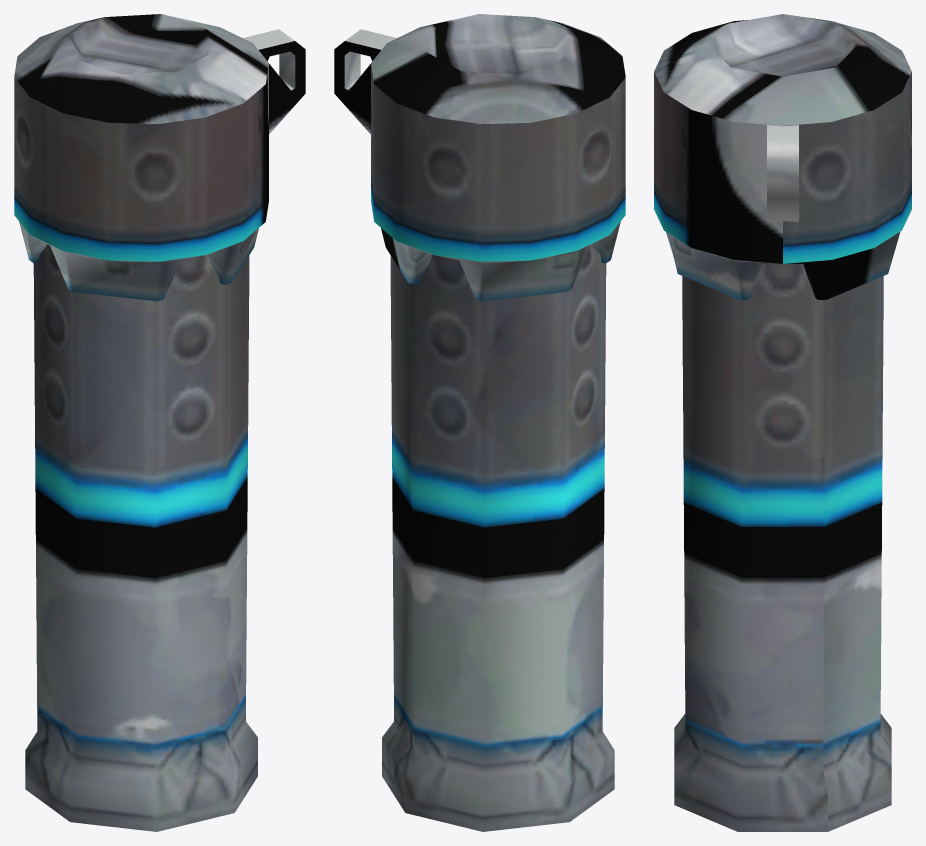
File: mccree_stun.obj
The picture shows the model from 3 angles, left to right: view 1: azimuth 30°, elevation 25°; view 2: azimuth 150°, elevation 25°; view 3: azimuth 270°, elevation 25°; orthographic projection.
Parts seen in each view (by area): view 1: Submesh_0.1.967E34207D99D1DA; view 2: Submesh_0.1.967E34207D99D1DA; view 3: Submesh_0.1.967E34207D99D1DA.
Part boxes in pixels (bbox=[...]): Submesh_0.1.967E34207D99D1DA: bbox=[14, 14, 305, 831]; Submesh_0.1.967E34207D99D1DA: bbox=[334, 14, 625, 831]; Submesh_0.1.967E34207D99D1DA: bbox=[654, 14, 911, 831].
Size of the model in its own units: 0.0959 by 0.253 by 0.0798.
